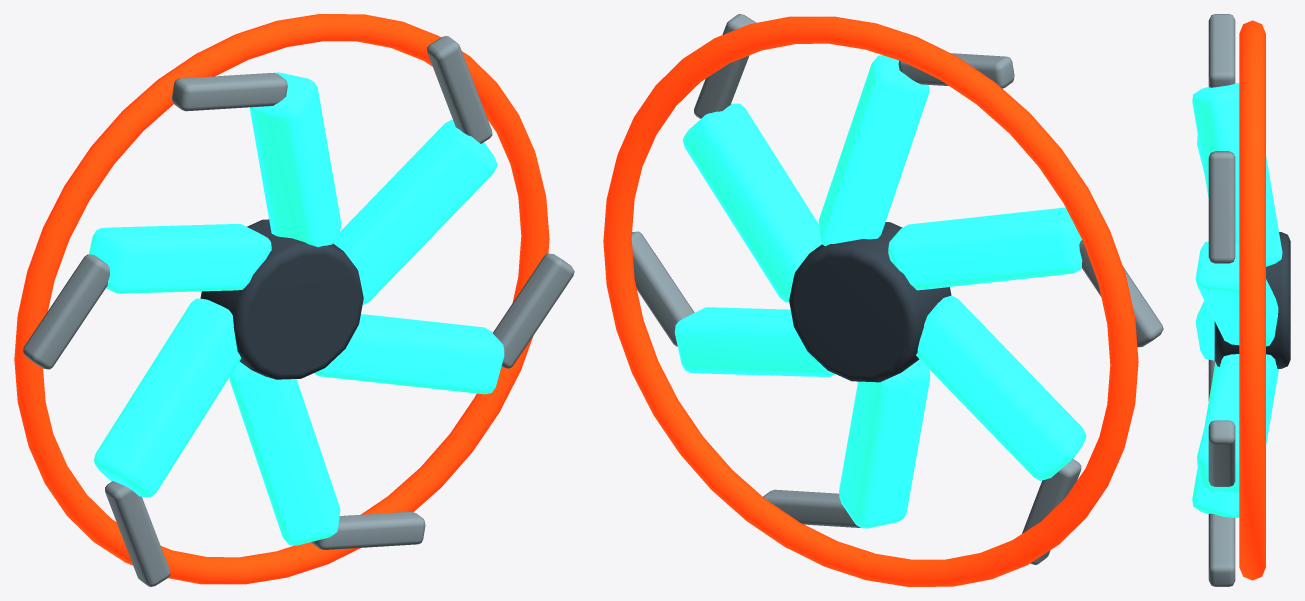
Rendered from SecWind_Special.fbx.
3 renders of one model, left to right at view 1: azimuth 30°, elevation 25°; view 2: azimuth 150°, elevation 25°; view 3: azimuth 270°, elevation 25°, orthographic. The views are drawn at different scales.
Visible parts, largest first — view 1: Vortex rim, Rotor hub.001, Wind cutter.006, Wind cutter.003, Wind cutter.007, Wind cutter.004, Wind cutter.005, Wind cutter.008, Blade tip.005, Blade tip.008, Blade tip.004, Blade tip.003 (+2 smaller); view 2: Vortex rim, Rotor hub.001, Wind cutter.006, Wind cutter.003, Wind cutter.005, Wind cutter.004, Wind cutter.007, Wind cutter.008, Blade tip.008, Blade tip.007, Blade tip.003, Blade tip.006 (+2 smaller); view 3: Vortex rim, Wind cutter.004, Wind cutter.003, Wind cutter.008, Blade tip.003, Rotor hub.001, Blade tip.004, Blade tip.007, Blade tip.008, Wind cutter.007, Wind cutter.006, Blade tip.006.
Part boxes in pixels (x1=…): Vortex rim: x1=14, y1=14, x2=549, y2=584; Rotor hub.001: x1=200, y1=219, x2=363, y2=379; Wind cutter.006: x1=93, y1=298, x2=241, y2=497; Wind cutter.003: x1=333, y1=120, x2=497, y2=305; Wind cutter.007: x1=229, y1=361, x2=340, y2=545; Wind cutter.004: x1=250, y1=72, x2=341, y2=247; Wind cutter.005: x1=89, y1=223, x2=271, y2=293; Wind cutter.008: x1=314, y1=314, x2=504, y2=394; Blade tip.005: x1=23, y1=254, x2=109, y2=369; Blade tip.008: x1=493, y1=253, x2=574, y2=368; Blade tip.004: x1=172, y1=72, x2=287, y2=111; Blade tip.003: x1=427, y1=36, x2=492, y2=143; Vortex rim: x1=603, y1=16, x2=1138, y2=586; Rotor hub.001: x1=789, y1=222, x2=951, y2=382; Wind cutter.006: x1=916, y1=295, x2=1086, y2=480; Wind cutter.003: x1=682, y1=103, x2=821, y2=302; Wind cutter.005: x1=888, y1=207, x2=1082, y2=290; Wind cutter.004: x1=818, y1=55, x2=929, y2=246; Wind cutter.007: x1=839, y1=359, x2=930, y2=528; Wind cutter.008: x1=674, y1=307, x2=835, y2=377; Blade tip.008: x1=631, y1=231, x2=694, y2=346; Blade tip.007: x1=763, y1=489, x2=863, y2=528; Blade tip.003: x1=694, y1=14, x2=756, y2=118; Blade tip.006: x1=1022, y1=459, x2=1081, y2=564; Vortex rim: x1=1239, y1=20, x2=1265, y2=580; Wind cutter.004: x1=1192, y1=83, x2=1282, y2=266; Wind cutter.003: x1=1195, y1=241, x2=1278, y2=346; Wind cutter.008: x1=1197, y1=354, x2=1277, y2=493; Blade tip.003: x1=1208, y1=151, x2=1235, y2=263; Rotor hub.001: x1=1214, y1=232, x2=1290, y2=368; Blade tip.004: x1=1208, y1=14, x2=1235, y2=87; Blade tip.007: x1=1208, y1=513, x2=1235, y2=586; Blade tip.008: x1=1208, y1=420, x2=1235, y2=486; Wind cutter.007: x1=1192, y1=362, x2=1278, y2=517; Wind cutter.006: x1=1195, y1=301, x2=1214, y2=360; Blade tip.006: x1=1208, y1=359, x2=1215, y2=400.
Size of the model in its own units: 150 by 147 by 25.84.
